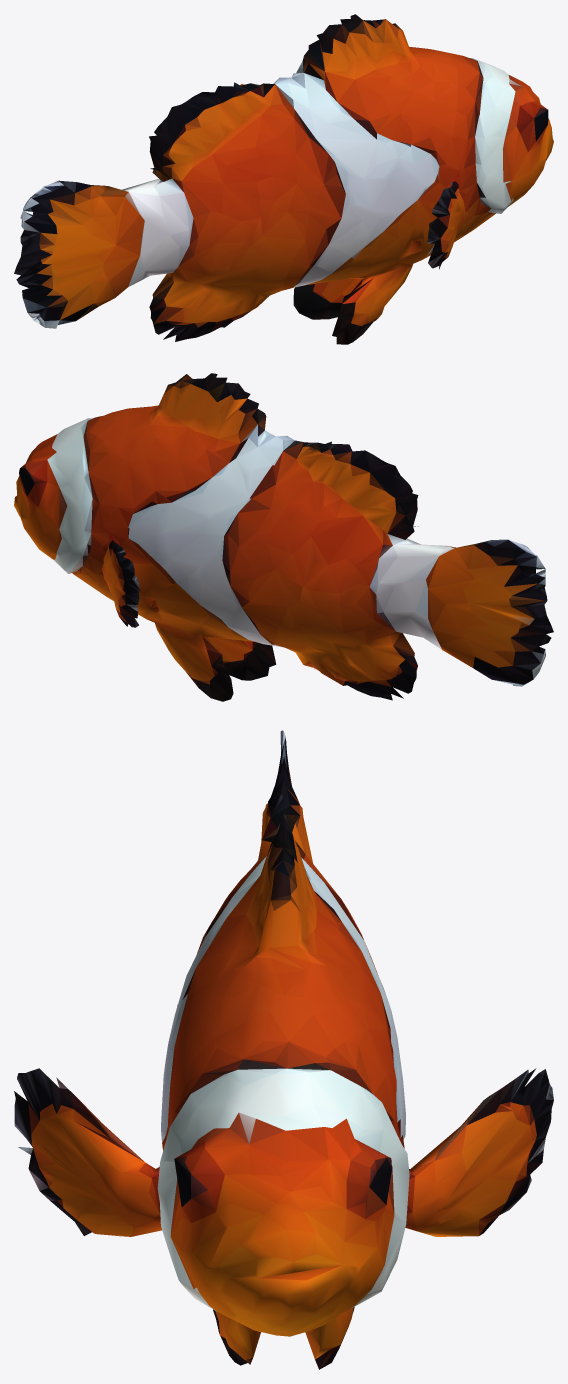
Rendered from clown.glb.
3 views of the same model, one above another, from view 1: azimuth 30°, elevation 25°; view 2: azimuth 150°, elevation 25°; view 3: azimuth 270°, elevation 25° (orthographic). The views are drawn at different scales.
Parts seen in each view (by area): view 1: geometry_0; view 2: geometry_0; view 3: geometry_0.
Boxes of the visible parts, x1=… form: geometry_0: x1=14, y1=14, x2=553, y2=344; geometry_0: x1=14, y1=373, x2=553, y2=701; geometry_0: x1=14, y1=730, x2=553, y2=1369.
Bounding box in the file's own units: 0.07 × 0.0392 × 0.035.
Materials: 1 (1 with a texture image).
